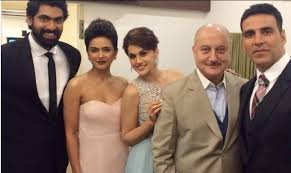Bad: (1, 1, 122, 173), (176, 2, 290, 173), (123, 24, 239, 173), (81, 13, 184, 81)
